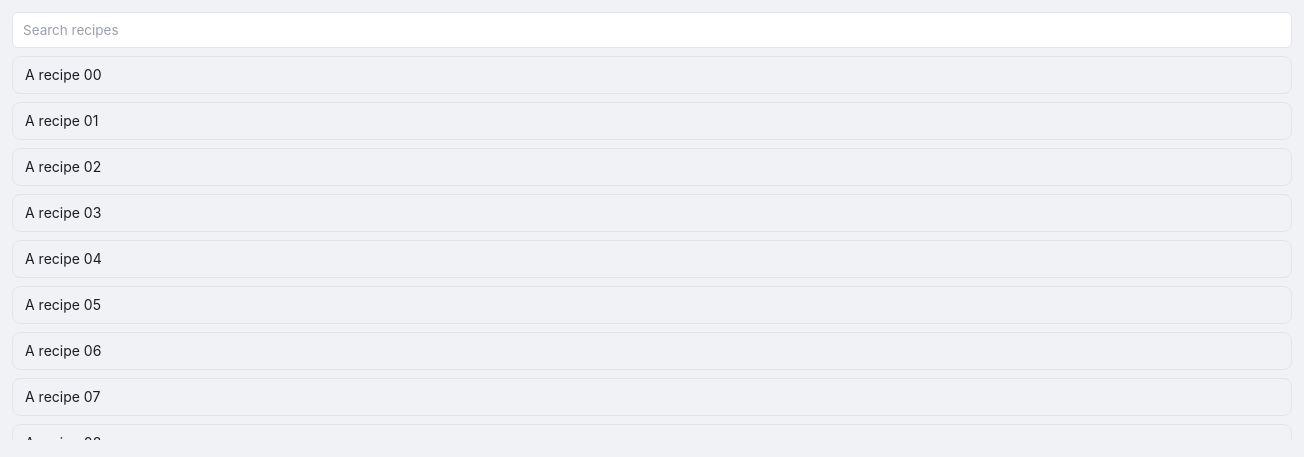
RecipePicker › does not let the previous search results be picked while a new search is loading
In the search field labelled "Search recipes": (652, 30) [12,12,1292,48], type "zucc"
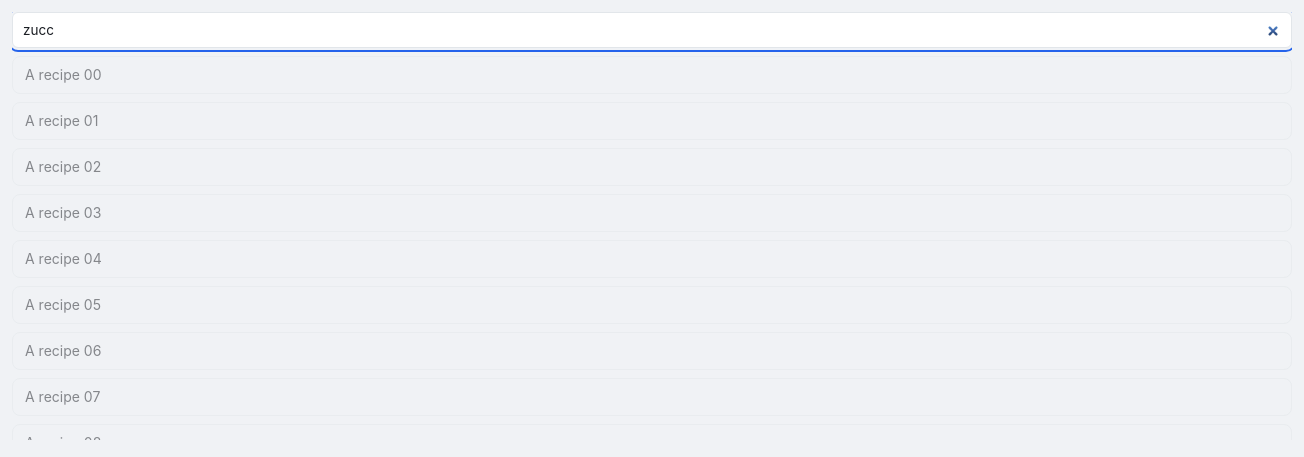
Check: the button "A recipe 00" is disabled
Click the button "A recipe 00": (63, 74) [12,56,1292,94]
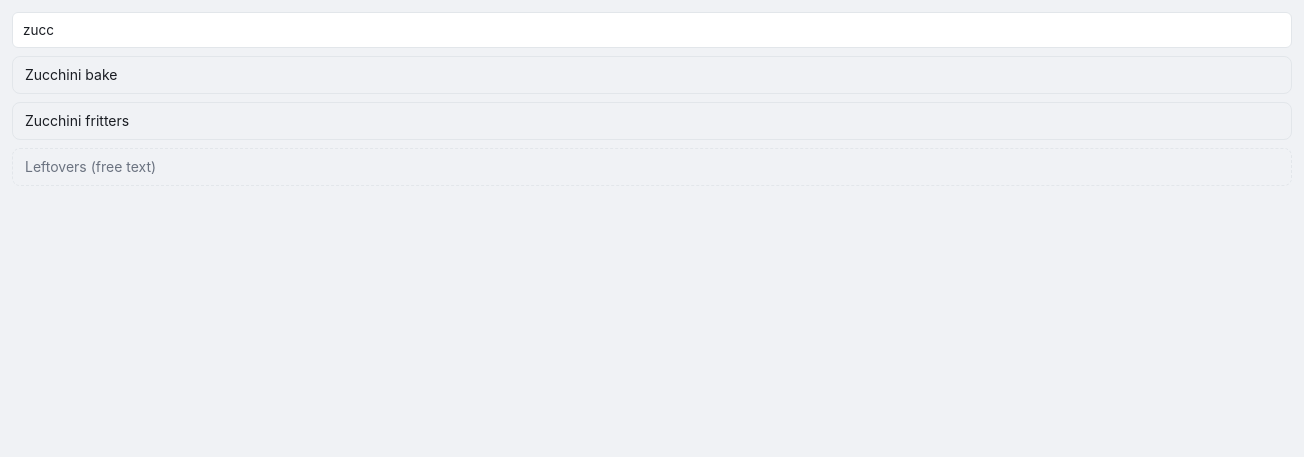
Check: the button "Zucchini bake" is enabled, box [12,56,1292,94]
